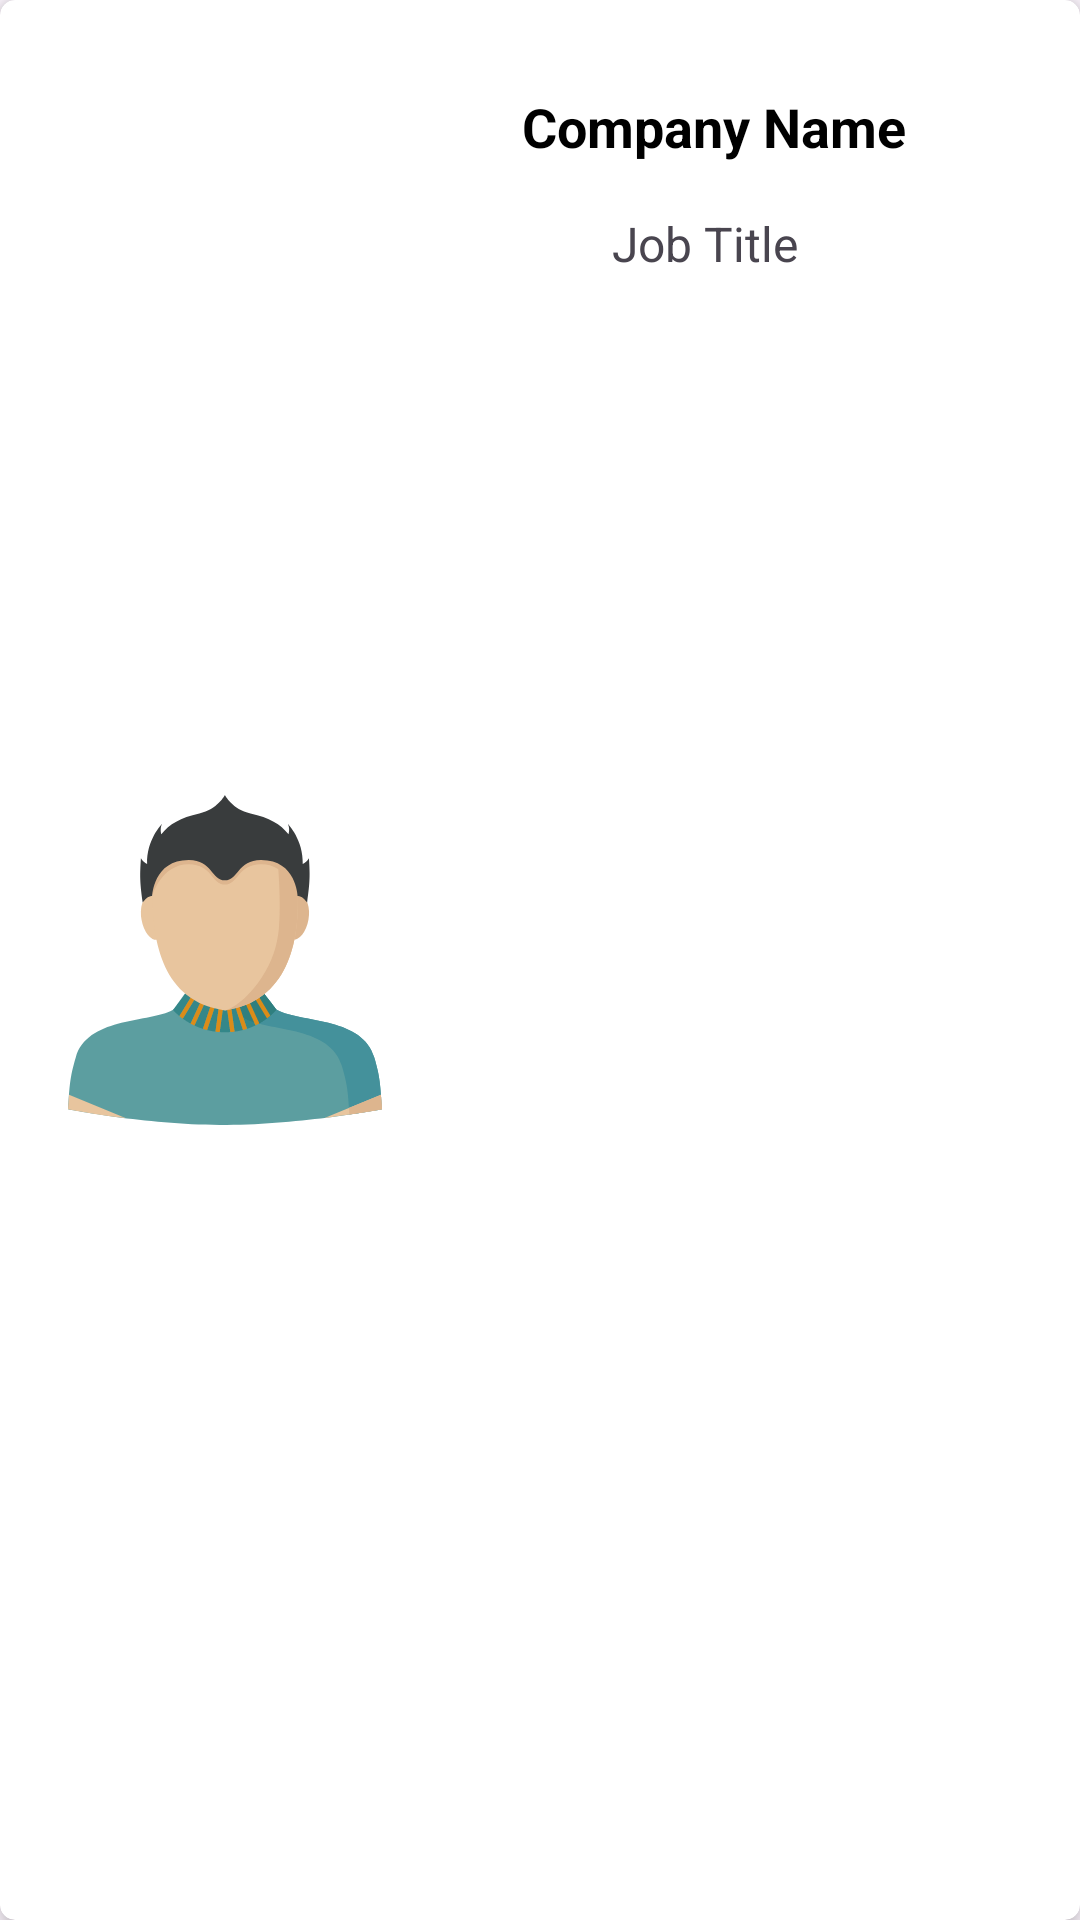

Where to tap for icons on this 1080x1920 app screen, as (x,y):
person: (225,960)
